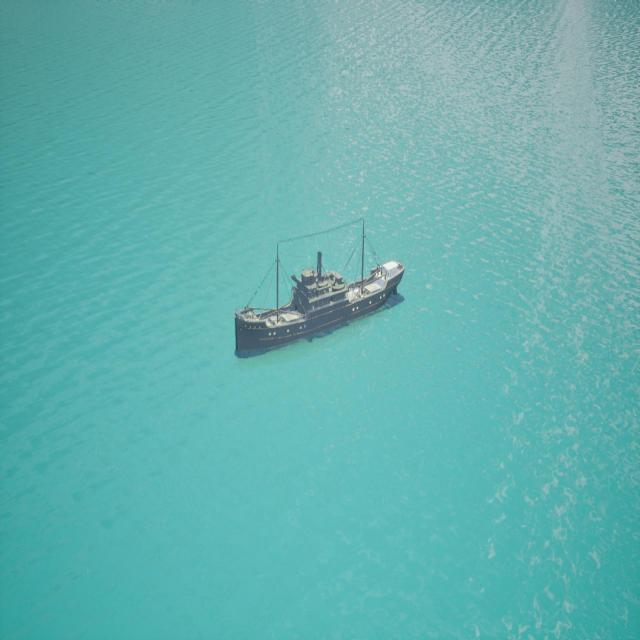fishing ship: (235, 244, 405, 359)
